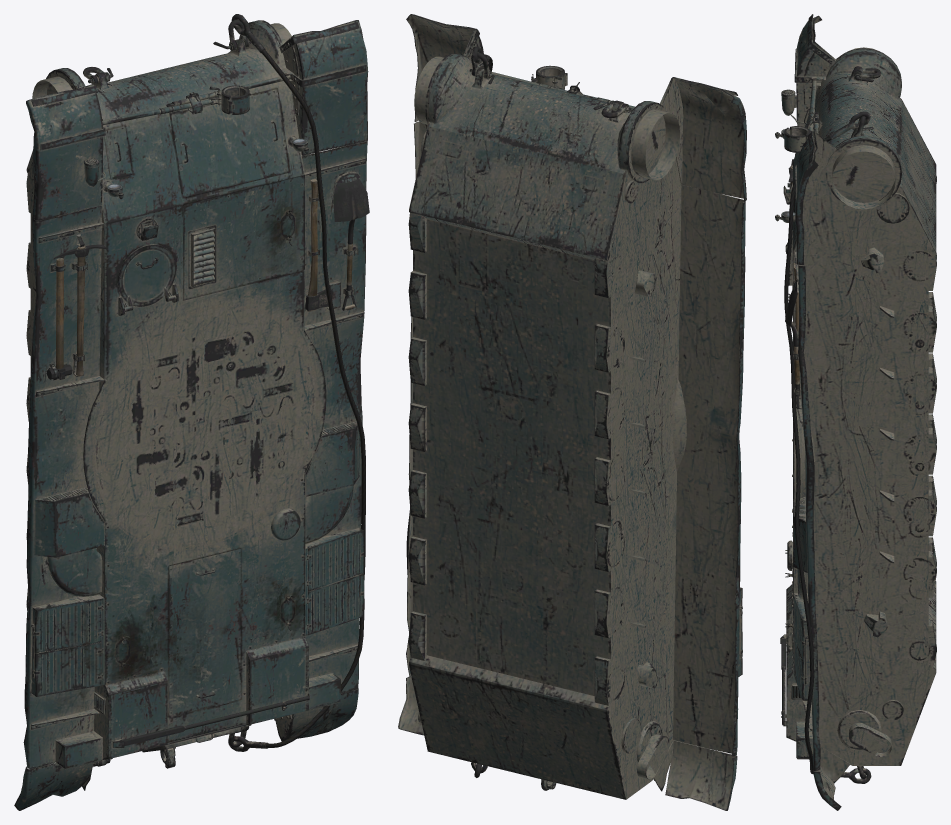
Rendered from Hull.glb.
The picture shows the model from 3 angles, left to right: view 1: azimuth 30°, elevation 25°; view 2: azimuth 150°, elevation 25°; view 3: azimuth 270°, elevation 25°; orthographic projection. The views are drawn at different scales.
Visible parts, largest first — view 1: set_0_group_0; view 2: set_0_group_0; view 3: set_0_group_0.
Part boxes in pixels (left/top/right/bottom): set_0_group_0: left=14, top=14, right=369, bottom=810; set_0_group_0: left=398, top=14, right=746, bottom=810; set_0_group_0: left=775, top=14, right=936, bottom=810.
Bounding box in the file's own units: 2.46 × 5.13 × 1.12.
Materials: 1 (1 with a texture image).
